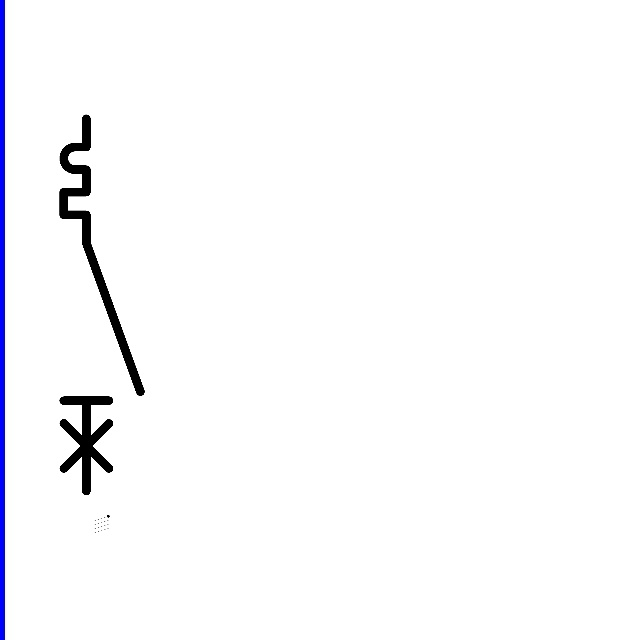interruptor_termomagnetico: (54, 109, 150, 500)
